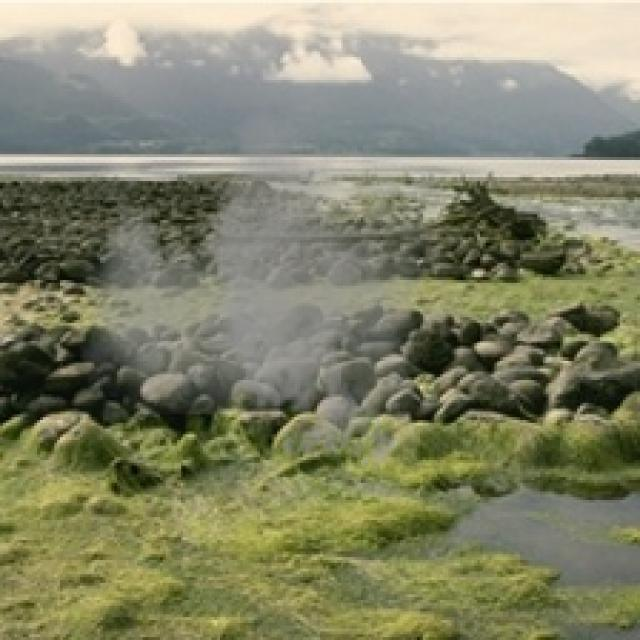Smoke: (80, 97, 449, 483)
